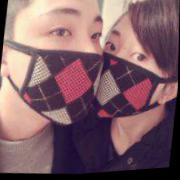OK: (90, 27, 171, 128)
WRONG: (13, 1, 110, 133)
